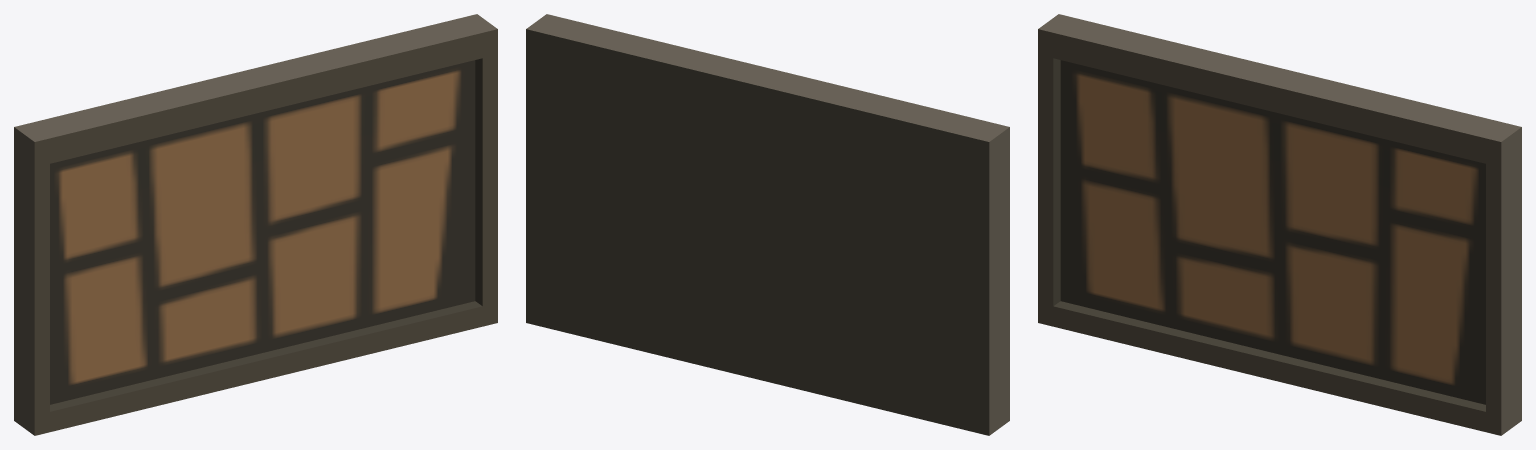
File: Window_C13.fbx
3 renders of one model, left to right at view 1: azimuth 30°, elevation 25°; view 2: azimuth 150°, elevation 25°; view 3: azimuth 330°, elevation 25°, orthographic.
Parts seen in each view (by area): view 1: Window_C13; view 2: Window_C13; view 3: Window_C13.
Boxes of the visible parts, bbox=[...] form: Window_C13: bbox=[14, 14, 497, 435]; Window_C13: bbox=[526, 14, 1009, 435]; Window_C13: bbox=[1038, 14, 1521, 435].
Size of the model in its own units: 375 by 227 by 28.95.
